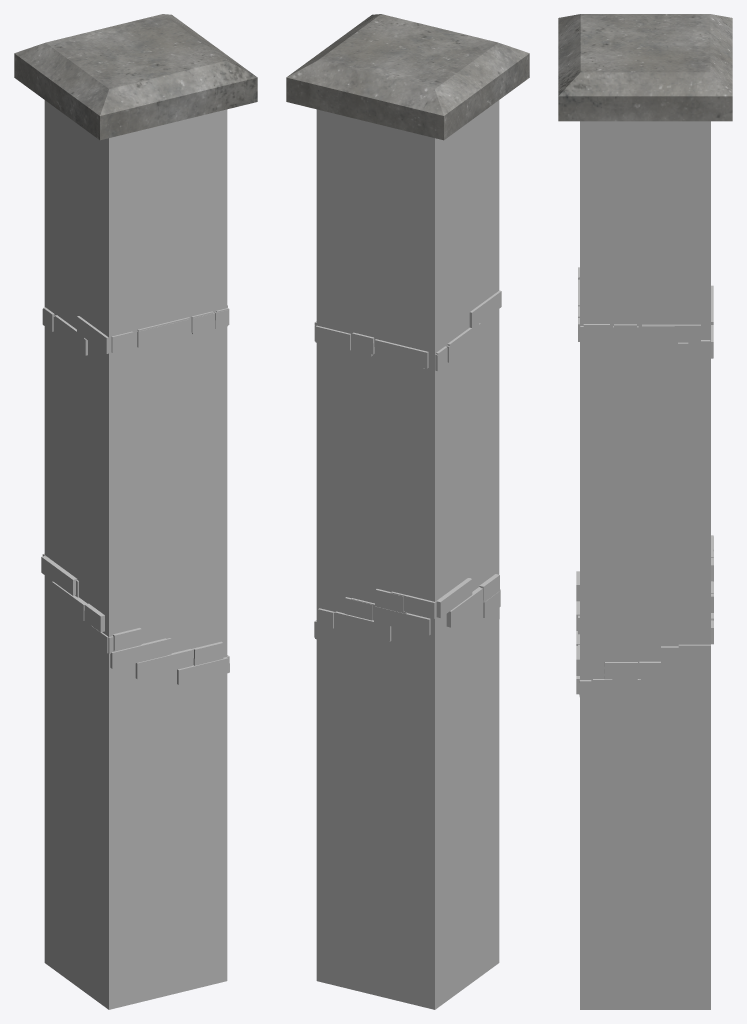
The model's file is Wall_Post_Seg_Shattered.fbx.
The picture shows the model from 3 angles, left to right: view 1: azimuth 30°, elevation 25°; view 2: azimuth 150°, elevation 25°; view 3: azimuth 270°, elevation 25°; orthographic projection.
Parts seen in each view (by area): view 1: Fragment_03, Fragment_01, Fragment_02; view 2: Fragment_03, Fragment_01, Fragment_02; view 3: Fragment_01, Fragment_03, Fragment_02.
Part boxes in pixels (x1,y1,x2,y2): Fragment_03: [41, 553, 228, 1009]; Fragment_01: [14, 14, 257, 355]; Fragment_02: [42, 305, 229, 672]; Fragment_03: [314, 574, 499, 1009]; Fragment_01: [286, 14, 529, 371]; Fragment_02: [314, 309, 500, 641]; Fragment_01: [558, 14, 732, 359]; Fragment_03: [576, 536, 713, 1009]; Fragment_02: [578, 267, 713, 697].
Bounding box in the file's own units: 0.573 × 3.19 × 0.5393.
